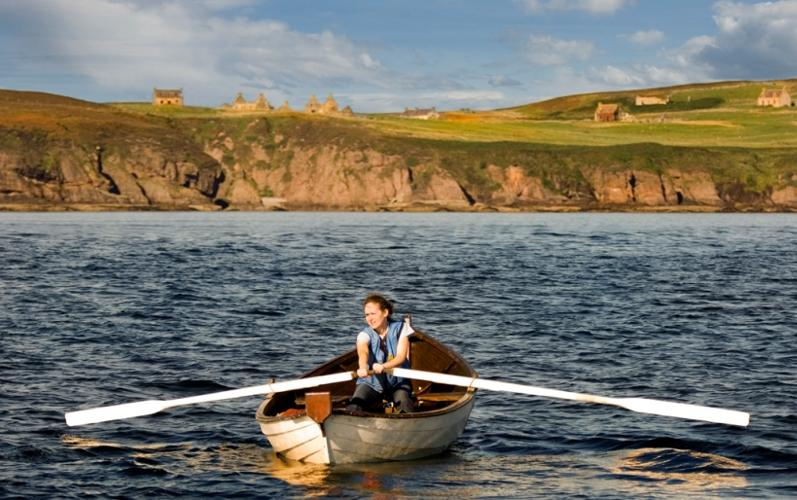person: (348, 298, 416, 418)
